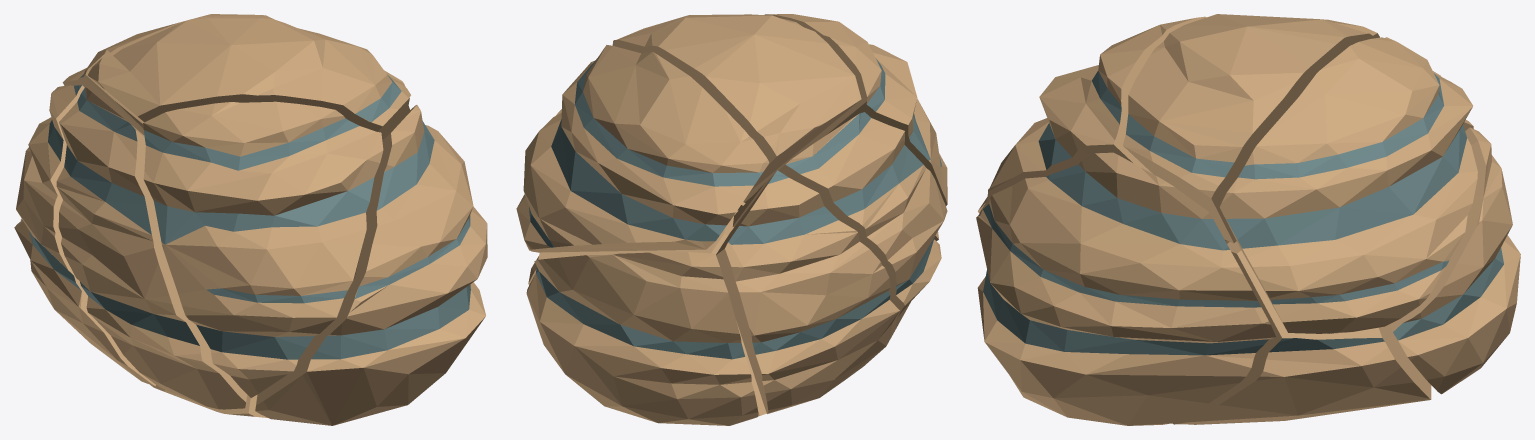
The model's file is SM_LP_MetalNode_5_Pieces.fbx.
3 renders of one model, left to right at view 1: azimuth 30°, elevation 25°; view 2: azimuth 150°, elevation 25°; view 3: azimuth 270°, elevation 25°, orthographic. The views are drawn at different scales.
Visible parts, largest first — view 1: SM_LP_MetalNode_5_Pieces_3, SM_LP_MetalNode_5_Pieces_8, SM_LP_MetalNode_5_Pieces_1, SM_LP_MetalNode_5_Pieces_5, SM_LP_MetalNode_5_Pieces_2, SM_LP_MetalNode_5_Pieces_7, SM_LP_MetalNode_5_Pieces_6; view 2: SM_LP_MetalNode_5_Pieces_7, SM_LP_MetalNode_5_Pieces_4, SM_LP_MetalNode_5_Pieces_2, SM_LP_MetalNode_5_Pieces_5, SM_LP_MetalNode_5_Pieces_1, SM_LP_MetalNode_5_Pieces_3, SM_LP_MetalNode_5_Pieces_6; view 3: SM_LP_MetalNode_5_Pieces_8, SM_LP_MetalNode_5_Pieces_7, SM_LP_MetalNode_5_Pieces_5, SM_LP_MetalNode_5_Pieces_6, SM_LP_MetalNode_5_Pieces_4, SM_LP_MetalNode_5_Pieces_3.
Boxes of the visible parts, x1=… form: SM_LP_MetalNode_5_Pieces_3: x1=141, y1=101, x2=383, y2=397; SM_LP_MetalNode_5_Pieces_8: x1=255, y1=105, x2=487, y2=425; SM_LP_MetalNode_5_Pieces_1: x1=55, y1=87, x2=247, y2=409; SM_LP_MetalNode_5_Pieces_5: x1=88, y1=18, x2=410, y2=131; SM_LP_MetalNode_5_Pieces_2: x1=14, y1=85, x2=155, y2=386; SM_LP_MetalNode_5_Pieces_7: x1=62, y1=14, x2=409, y2=136; SM_LP_MetalNode_5_Pieces_6: x1=150, y1=384, x2=267, y2=417; SM_LP_MetalNode_5_Pieces_7: x1=516, y1=45, x2=769, y2=252; SM_LP_MetalNode_5_Pieces_4: x1=526, y1=252, x2=758, y2=425; SM_LP_MetalNode_5_Pieces_2: x1=716, y1=170, x2=899, y2=413; SM_LP_MetalNode_5_Pieces_5: x1=612, y1=14, x2=861, y2=190; SM_LP_MetalNode_5_Pieces_1: x1=732, y1=112, x2=947, y2=337; SM_LP_MetalNode_5_Pieces_3: x1=743, y1=14, x2=947, y2=240; SM_LP_MetalNode_5_Pieces_6: x1=528, y1=210, x2=766, y2=416; SM_LP_MetalNode_5_Pieces_8: x1=976, y1=152, x2=1275, y2=425; SM_LP_MetalNode_5_Pieces_7: x1=1219, y1=37, x2=1477, y2=333; SM_LP_MetalNode_5_Pieces_5: x1=1123, y1=14, x2=1379, y2=243; SM_LP_MetalNode_5_Pieces_6: x1=1171, y1=240, x2=1431, y2=424; SM_LP_MetalNode_5_Pieces_4: x1=1390, y1=127, x2=1520, y2=394; SM_LP_MetalNode_5_Pieces_3: x1=978, y1=16, x2=1206, y2=213.
Bounding box in the file's own units: 0.7899 × 0.7184 × 0.9592.
